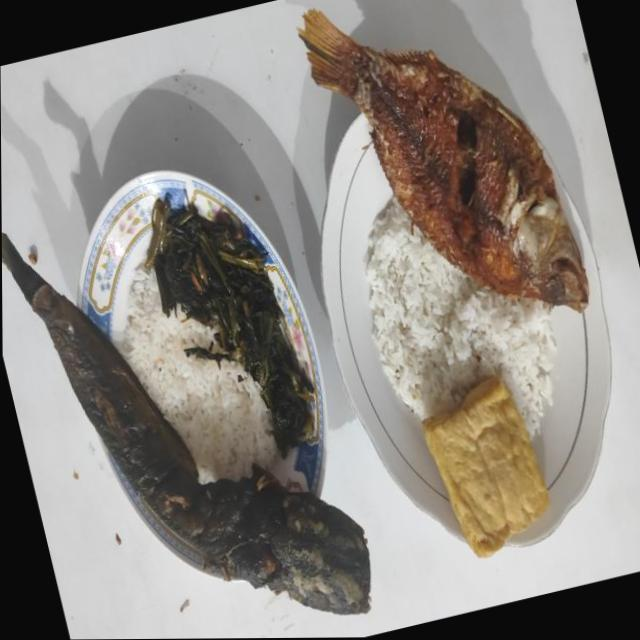ikan_mujair: (299, 10, 588, 312)
nasi_putih: (364, 197, 556, 437), (114, 268, 284, 482)
tahu_goreng: (422, 377, 549, 556)
tumis_kangkung: (146, 193, 316, 453)
